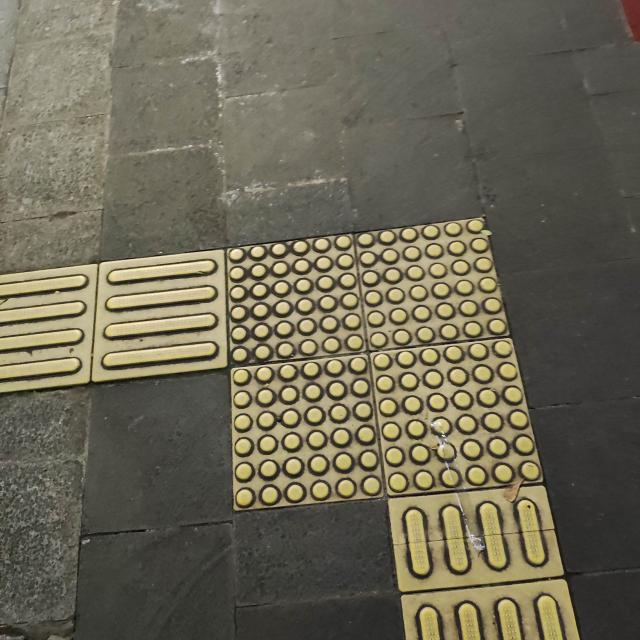kiri: (18, 162, 640, 567)
